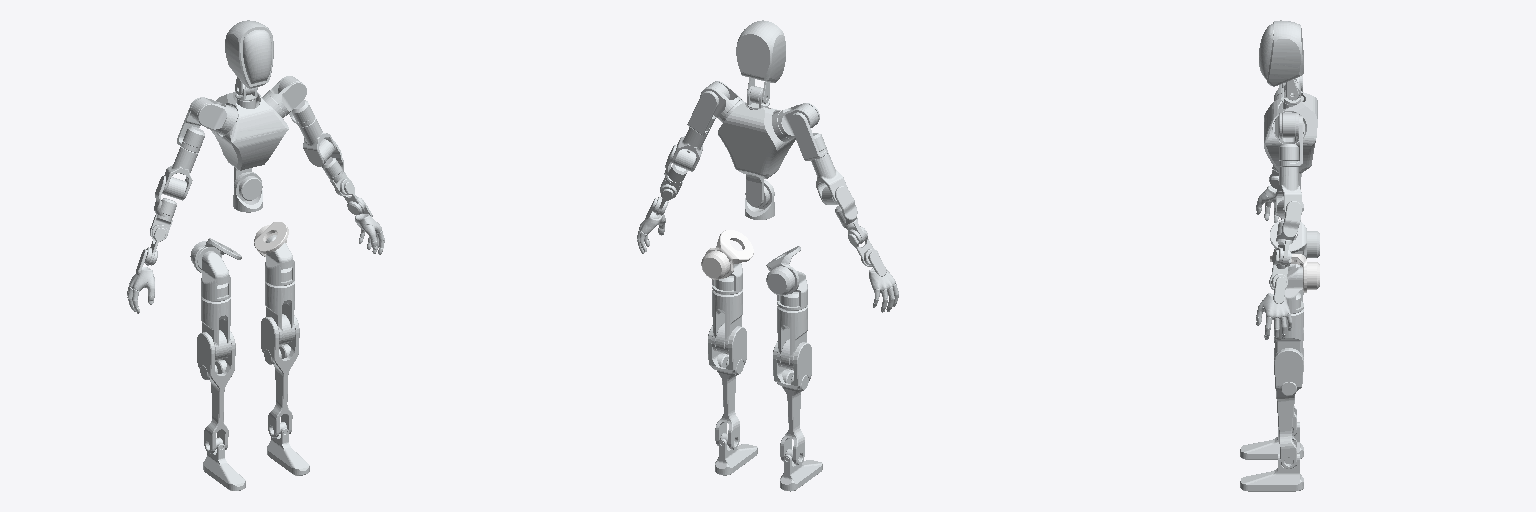
--- What the picture shows (computed from the rendered views, not written in the file) ---
Views: 3 orthographic renders of the robot side by side, from view 1: azimuth 30°, elevation 25°; view 2: azimuth 150°, elevation 25°; view 3: azimuth 270°, elevation 25°.
Robot: 250226_DummyBipedURDF — 31 links, 30 joints (30 revolute); root link base_link; default pose: every joint at zero.
Links seen in each view (by area): view 1: Torso_AA_Link, Neck_FE_Link, Knee_FE_R_Link, Knee_FE_L_Link, Leg_Yaw_L_Link, Leg_Yaw_R_Link, Hip_AA_R_Link, Hip_AA_L_Link, Torso_Yaw_Link, Shoulder_Yaw_R_Link, Shoulder_FE_R_Link, Shoulder_Yaw_L_Link (+8 smaller); view 2: Torso_AA_Link, Neck_FE_Link, Knee_FE_R_Link, Knee_FE_L_Link, Hip_Yaw_L_Link, Leg_Yaw_L_Link, Leg_Yaw_R_Link, Hip_Yaw_R_Link, Wrist_AA_R_Link, Shoulder_AA_R_Link, Shoulder_Yaw_R_Link, Ankle_AA_L_Link (+10 smaller); view 3: Neck_FE_Link, Knee_FE_L_Link, Torso_AA_Link, Ankle_AA_L_Link, Wrist_AA_L_Link, Shoulder_Yaw_L_Link, Hip_Yaw_R_Link, Ankle_AA_R_Link, Leg_Yaw_L_Link, Shoulder_FE_L_Link, Hip_AA_L_Link, Elbow_FE_L_Link (+2 smaller).
Link boxes in pixels (box(x1,y1,x2,y2)): Torso_AA_Link: box(212, 92, 288, 181); Neck_FE_Link: box(225, 20, 273, 95); Knee_FE_R_Link: box(197, 331, 235, 453); Knee_FE_L_Link: box(261, 315, 299, 437); Leg_Yaw_L_Link: box(265, 281, 295, 344); Leg_Yaw_R_Link: box(201, 296, 231, 359); Hip_AA_R_Link: box(201, 251, 230, 301); Hip_AA_L_Link: box(265, 235, 294, 285); Torso_Yaw_Link: box(233, 172, 262, 212); Shoulder_Yaw_R_Link: box(162, 147, 197, 200); Shoulder_FE_R_Link: box(189, 97, 230, 132); Shoulder_Yaw_L_Link: box(298, 117, 335, 166); Torso_AA_Link: box(718, 100, 795, 206); Neck_FE_Link: box(736, 20, 785, 103); Knee_FE_R_Link: box(773, 341, 811, 464); Knee_FE_L_Link: box(708, 325, 746, 449); Hip_Yaw_L_Link: box(701, 230, 753, 279); Leg_Yaw_L_Link: box(712, 289, 742, 354); Leg_Yaw_R_Link: box(777, 305, 807, 370); Hip_Yaw_R_Link: box(766, 246, 800, 295); Wrist_AA_R_Link: box(868, 252, 898, 312); Shoulder_AA_R_Link: box(789, 112, 827, 160); Shoulder_Yaw_R_Link: box(811, 153, 847, 204); Ankle_AA_L_Link: box(715, 439, 757, 475); Neck_FE_Link: box(1259, 20, 1303, 100); Knee_FE_L_Link: box(1274, 348, 1303, 468); Torso_AA_Link: box(1264, 92, 1317, 188); Ankle_AA_L_Link: box(1240, 454, 1303, 491); Wrist_AA_L_Link: box(1256, 277, 1291, 341); Shoulder_Yaw_L_Link: box(1276, 166, 1301, 218); Hip_Yaw_R_Link: box(1270, 219, 1319, 258); Ankle_AA_R_Link: box(1240, 422, 1303, 459); Leg_Yaw_L_Link: box(1274, 309, 1303, 357); Shoulder_FE_L_Link: box(1274, 112, 1303, 142); Hip_AA_L_Link: box(1285, 267, 1303, 313); Elbow_FE_L_Link: box(1276, 201, 1301, 240).
Bounding box of the posed robot: 1.06 × 0.2883 × 1.79 m (x, y, z).
Meshes: 31 distinct files referenced, 30 mesh visuals loaded (30 binary STL); not drawn: 1 (reference not matched to a file when rendering).

robot.urdf — 250226_DummyBipedURDF:
<?xml version="1.0" encoding="utf-8"?>
<!-- This URDF was automatically created by SolidWorks to URDF Exporter! Originally created by Stephen Brawner ([email redacted]) 
     Commit Version: 1.6.0-4-g7f85cfe  Build Version: 1.6.7995.38578
     For more information, please see http://wiki.ros.org/sw_urdf_exporter -->
<robot
  name="250226_DummyBipedURDF">
  <link
    name="base_link">
    <inertial>
      <origin
        xyz="-5.1038E-08 5.4326E-06 0.95377"
        rpy="0 0 0" />
      <mass
        value="6.4875" />
      <inertia
        ixx="0.013251"
        ixy="-1.0594E-07"
        ixz="1.1747E-08"
        iyy="0.018788"
        iyz="-2.0057E-07"
        izz="0.016546" />
    </inertial>
    <visual>
      <origin
        xyz="0 0 0"
        rpy="0 0 0" />
      <geometry>
        <mesh
          filename="../meshes/base_link.STL" />
      </geometry>
      <material
        name="">
        <color
          rgba="0.89804 0.91765 0.92941 1" />
      </material>
    </visual>
    <collision>
      <origin
        xyz="0 0 0"
        rpy="0 0 0" />
      <geometry>
        <mesh
          filename="../meshes/base_link.STL" />
      </geometry>
    </collision>
  </link>
  <link
    name="Torso_Yaw_Link">
    <inertial>
      <origin
        xyz="1.1997E-17 0.054131 -2.8977E-17"
        rpy="0 0 0" />
      <mass
        value="1.9589" />
      <inertia
        ixx="0.0020305"
        ixy="-7.9398E-19"
        ixz="-5.6399E-10"
        iyy="0.0022686"
        iyz="1.8408E-18"
        izz="0.0026768" />
    </inertial>
    <visual>
      <origin
        xyz="0 0 0"
        rpy="0 0 0" />
      <geometry>
        <mesh
          filename="../meshes/Torso_Yaw_Link.STL" />
      </geometry>
      <material
        name="">
        <color
          rgba="0.89804 0.91765 0.92941 1" />
      </material>
    </visual>
    <collision>
      <origin
        xyz="0 0 0"
        rpy="0 0 0" />
      <geometry>
        <mesh
          filename="../meshes/Torso_Yaw_Link.STL" />
      </geometry>
    </collision>
  </link>
  <joint
    name="Torso_Yaw"
    type="revolute">
    <origin
      xyz="0 0 1.045"
      rpy="1.5708 0 0" />
    <parent
      link="base_link" />
    <child
      link="Torso_Yaw_Link" />
    <axis
      xyz="0 1 0" />
    <limit
      lower="-1.5707"
      upper="1.5707"
      effort="0"
      velocity="0" />
  </joint>
  <link
    name="Torso_AA_Link">
    <inertial>
      <origin
        xyz="-2.0708E-07 0.22736 -0.0095751"
        rpy="0 0 0" />
      <mass
        value="30" />
      <inertia
        ixx="0.12796"
        ixy="3.2398E-07"
        ixz="-2.8027E-08"
        iyy="0.10181"
        iyz="0.0058619"
        izz="0.12906" />
    </inertial>
    <visual>
      <origin
        xyz="0 0 0"
        rpy="0 0 0" />
      <geometry>
        <mesh
          filename="../meshes/Torso_AA_Link.STL" />
      </geometry>
      <material
        name="">
        <color
          rgba="0.89804 0.91765 0.92941 1" />
      </material>
    </visual>
    <collision>
      <origin
        xyz="0 0 0"
        rpy="0 0 0" />
      <geometry>
        <mesh
          filename="../meshes/Torso_AA_Link.STL" />
      </geometry>
    </collision>
  </link>
  <joint
    name="Torso_AA"
    type="revolute">
    <origin
      xyz="0 0.0800000000000003 0"
      rpy="0 0 0" />
    <parent
      link="Torso_Yaw_Link" />
    <child
      link="Torso_AA_Link" />
    <axis
      xyz="0 0 1" />
    <limit
      lower="-0.785"
      upper="0.785"
      effort="0"
      velocity="0" />
  </joint>
  <link
    name="Neck_Yaw_Link">
    <inertial>
      <origin
        xyz="-1.4038E-08 0.029123 3.699E-09"
        rpy="0 0 0" />
      <mass
        value="0.45918" />
      <inertia
        ixx="0.00025102"
        ixy="-1.3964E-10"
        ixz="1.1085E-10"
        iyy="0.00027253"
        iyz="-1.7767E-11"
        izz="0.00024693" />
    </inertial>
    <visual>
      <origin
        xyz="0 0 0"
        rpy="0 0 0" />
      <geometry>
        <mesh
          filename="../meshes/Neck_Yaw_Link.STL" />
      </geometry>
      <material
        name="">
        <color
          rgba="0.89804 0.91765 0.92941 1" />
      </material>
    </visual>
    <collision>
      <origin
        xyz="0 0 0"
        rpy="0 0 0" />
      <geometry>
        <mesh
          filename="../meshes/Neck_Yaw_Link.STL" />
      </geometry>
    </collision>
  </link>
  <joint
    name="Neck_Yaw"
    type="revolute">
    <origin
      xyz="0 0.355 -0.0129866470414555"
      rpy="0 0 0" />
    <parent
      link="Torso_AA_Link" />
    <child
      link="Neck_Yaw_Link" />
    <axis
      xyz="0 1 0" />
    <limit
      lower="-0.785"
      upper="0.785"
      effort="0"
      velocity="0" />
  </joint>
  <link
    name="Neck_FE_Link">
    <inertial>
      <origin
        xyz="2.2453E-06 0.15386 0.035067"
        rpy="0 0 0" />
      <mass
        value="3" />
      <inertia
        ixx="0.04359"
        ixy="-3.1398E-07"
        ixz="-1.9196E-07"
        iyy="0.023367"
        iyz="0.0026283"
        izz="0.047363" />
    </inertial>
    <visual>
      <origin
        xyz="0 0 0"
        rpy="0 0 0" />
      <geometry>
        <mesh
          filename="../meshes/Neck_FE_Link.STL" />
      </geometry>
      <material
        name="">
        <color
          rgba="0.89804 0.91765 0.92941 1" />
      </material>
    </visual>
    <collision>
      <origin
        xyz="0 0 0"
        rpy="0 0 0" />
      <geometry>
        <mesh
          filename="../meshes/Neck_FE_Link.STL" />
      </geometry>
    </collision>
  </link>
  <joint
    name="Neck_FE"
    type="revolute">
    <origin
      xyz="0 0.0399999999999998 0"
      rpy="0 0 0" />
    <parent
      link="Neck_Yaw_Link" />
    <child
      link="Neck_FE_Link" />
    <axis
      xyz="1 0 0" />
    <limit
      lower="-0.785"
      upper="0.785"
      effort="0"
      velocity="0" />
  </joint>
  <link
    name="Shoulder_FE_R_Link">
    <inertial>
      <origin
        xyz="-0.0310067505083414 0.019345596761579 1.48881177824227E-10"
        rpy="0 0 0" />
      <mass
        value="1.80654252567583" />
      <inertia
        ixx="0.00223136805713306"
        ixy="0.000243223757907872"
        ixz="-2.90423444678987E-10"
        iyy="0.00246945115474458"
        iyz="-4.63576699028405E-10"
        izz="0.00270170721323667" />
    </inertial>
    <visual>
      <origin
        xyz="0 0 0"
        rpy="0 0 0" />
      <geometry>
        <mesh
          filename="../meshes/Shoulder_FE_R_Link.STL" />
      </geometry>
      <material
        name="">
        <color
          rgba="0.898039215686275 0.917647058823529 0.929411764705882 1" />
      </material>
    </visual>
    <collision>
      <origin
        xyz="0 0 0"
        rpy="0 0 0" />
      <geometry>
        <mesh
          filename="../meshes/Shoulder_FE_R_Link.STL" />
      </geometry>
    </collision>
  </link>
  <joint
    name="Shoulder_FE_R"
    type="revolute">
    <origin
      xyz="-0.134606791294279 0.313081203127166 0"
      rpy="0 0 0" />
    <parent
      link="Torso_AA_Link" />
    <child
      link="Shoulder_FE_R_Link" />
    <axis
      xyz="0.848411485673513 -0.529337275257715 0" />
    <limit
      lower="-0.785"
      upper="3.141"
      effort="0"
      velocity="0" />
  </joint>
  <link
    name="Shoulder_AA_R_Link">
    <inertial>
      <origin
        xyz="-0.0381306595274215 -0.0834509868200322 -0.0151840043629273"
        rpy="0 0 0" />
      <mass
        value="1.247855047949" />
      <inertia
        ixx="0.00255619066796935"
        ixy="-0.000745614459901058"
        ixz="0.000210043728183181"
        iyy="0.0012650690077835"
        iyz="0.000459692806544922"
        izz="0.00280837799737988" />
    </inertial>
    <visual>
      <origin
        xyz="0 0 0"
        rpy="0 0 0" />
      <geometry>
        <mesh
          filename="../meshes/Shoulder_AA_R_Link.STL" />
      </geometry>
      <material
        name="">
        <color
          rgba="0.898039215686275 0.917647058823529 0.929411764705882 1" />
      </material>
    </visual>
    <collision>
      <origin
        xyz="0 0 0"
        rpy="0 0 0" />
      <geometry>
        <mesh
          filename="../meshes/Shoulder_AA_R_Link.STL" />
      </geometry>
    </collision>
  </link>
  <joint
    name="Shoulder_AA_R"
    type="revolute">
    <origin
      xyz="-0.0496017470231125 0.0309473104273139 0"
      rpy="0 0 0" />
    <parent
      link="Shoulder_FE_R_Link" />
    <child
      link="Shoulder_AA_R_Link" />
    <axis
      xyz="0 0 1" />
    <limit
      lower="-0.785"
      upper="2.094"
      effort="0"
      velocity="0" />
  </joint>
  <link
    name="Shoulder_Yaw_R_Link">
    <inertial>
      <origin
        xyz="-0.0519770780045243 -0.113754803821021 2.1573737799135E-09"
        rpy="0 0 0" />
      <mass
        value="2.06319971291781" />
      <inertia
        ixx="0.00360586911977551"
        ixy="-0.000803766521239213"
        ixz="-0.00015613227592812"
        iyy="0.00221403833441209"
        iyz="7.13399292874001E-05"
        izz="0.00432891643180672" />
    </inertial>
    <visual>
      <origin
        xyz="0 0 0"
        rpy="0 0 0" />
      <geometry>
        <mesh
          filename="../meshes/Shoulder_Yaw_R_Link.STL" />
      </geometry>
      <material
        name="">
        <color
          rgba="0.898039215686275 0.917647058823529 0.929411764705882 1" />
      </material>
    </visual>
    <collision>
      <origin
        xyz="0 0 0"
        rpy="0 0 0" />
      <geometry>
        <mesh
          filename="../meshes/Shoulder_Yaw_R_Link.STL" />
      </geometry>
    </collision>
  </link>
  <joint
    name="Shoulder_Yaw_R"
    type="revolute">
    <origin
      xyz="-0.0516249564943227 -0.112984177257028 0"
      rpy="0 0 0" />
    <parent
      link="Shoulder_AA_R_Link" />
    <child
      link="Shoulder_Yaw_R_Link" />
    <axis
      xyz="0.415593597783362 0.909550417229018 0" />
    <limit
      lower="-1.57"
      upper="1.57"
      effort="0"
      velocity="0" />
  </joint>
  <link
    name="Elbow_FE_R_Link">
    <inertial>
      <origin
        xyz="-0.0430905861287604 -0.0545416277452424 0.00455317320276115"
        rpy="0 0 0" />
      <mass
        value="0.692088336953301" />
      <inertia
        ixx="0.000881635924536338"
        ixy="-5.45477026515835E-05"
        ixz="2.15374708302045E-05"
        iyy="0.000351801344105622"
        iyz="0.000148361087401981"
        izz="0.000826885225838731" />
    </inertial>
    <visual>
      <origin
        xyz="0 0 0"
        rpy="0 0 0" />
      <geometry>
        <mesh
          filename="../meshes/Elbow_FE_R_Link.STL" />
      </geometry>
      <material
        name="">
        <color
          rgba="0.898039215686275 0.917647058823529 0.929411764705882 1" />
      </material>
    </visual>
    <collision>
      <origin
        xyz="0 0 0"
        rpy="0 0 0" />
      <geometry>
        <mesh
          filename="../meshes/Elbow_FE_R_Link.STL" />
      </geometry>
    </collision>
  </link>
  <joint
    name="Elbow_FE_R"
    type="revolute">
    <origin
      xyz="-0.0748034856878404 -0.163711717361511 0"
      rpy="0 0 0" />
    <parent
      link="Shoulder_Yaw_R_Link" />
    <child
      link="Elbow_FE_R_Link" />
    <axis
      xyz="0.843385849793954 -0.385361551153234 0.374428609029951" />
    <limit
      lower="-0.157"
      upper="2.268"
      effort="0"
      velocity="0" />
  </joint>
  <link
    name="Elbow_Yaw_R_Link">
    <inertial>
      <origin
        xyz="-0.0300774802367351 -0.0569008247691511 0.00918608157764246"
        rpy="0 0 0" />
      <mass
        value="0.486444545942294" />
      <inertia
        ixx="0.000207124470524885"
        ixy="-9.88793102363349E-06"
        ixz="-1.73468963111058E-05"
        iyy="0.000202259244154704"
        iyz="2.05411115364028E-05"
        izz="0.000264155161494633" />
    </inertial>
    <visual>
      <origin
        xyz="0 0 0"
        rpy="0 0 0" />
      <geometry>
        <mesh
          filename="../meshes/Elbow_Yaw_R_Link.STL" />
      </geometry>
      <material
        name="">
        <color
          rgba="0.898039215686275 0.917647058823529 0.929411764705882 1" />
      </material>
    </visual>
    <collision>
      <origin
        xyz="0 0 0"
        rpy="0 0 0" />
      <geometry>
        <mesh
          filename="../meshes/Elbow_Yaw_R_Link.STL" />
      </geometry>
    </collision>
  </link>
  <joint
    name="Elbow_Yaw_R"
    type="revolute">
    <origin
      xyz="-0.042145521469758 -0.0797312447084886 0.0128718270647735"
      rpy="0 0 0" />
    <parent
      link="Elbow_FE_R_Link" />
    <child
      link="Elbow_Yaw_R_Link" />
    <axis
      xyz="0.462635059808256 0.875216817302152 -0.141295166752804" />
    <limit
      lower="-1.57"
      upper="1.57"
      effort="0"
      velocity="0" />
  </joint>
  <link
    name="Wrist_FE_R_Link">
    <inertial>
      <origin
        xyz="-0.0340290841582708 -0.0639823677206759 0.0102672042908063"
        rpy="0 0 0" />
      <mass
        value="0.456187504829232" />
      <inertia
        ixx="0.000374944464779548"
        ixy="-8.42596042439924E-05"
        ixz="4.1303230793248E-05"
        iyy="0.000247484306552816"
        iyz="1.13021461676669E-07"
        izz="0.000338863870451295" />
    </inertial>
    <visual>
      <origin
        xyz="0 0 0"
        rpy="0 0 0" />
      <geometry>
        <mesh
          filename="../meshes/Wrist_FE_R_Link.STL" />
      </geometry>
      <material
        name="">
        <color
          rgba="0.898039215686275 0.917647058823529 0.929411764705882 1" />
      </material>
    </visual>
    <collision>
      <origin
        xyz="0 0 0"
        rpy="0 0 0" />
      <geometry>
        <mesh
          filename="../meshes/Wrist_FE_R_Link.STL" />
      </geometry>
    </collision>
  </link>
  <joint
    name="Wrist_FE_R"
    type="revolute">
    <origin
      xyz="-0.0371487302648139 -0.0702782739437464 0.0113457376957058"
      rpy="0 0 0" />
    <parent
      link="Elbow_Yaw_R_Link" />
    <child
      link="Wrist_FE_R_Link" />
    <axis
      xyz="0.273256490871751 -0.292390146216084 -0.916427243479914" />
    <limit
      lower="-0.785"
      upper="0.785"
      effort="0"
      velocity="0" />
  </joint>
  <link
    name="Wrist_AA_R_Link">
    <inertial>
      <origin
        xyz="-0.048154488130251 -0.0885984034333783 0.0118552801837085"
        rpy="0 0 0" />
      <mass
        value="1.16298779128614" />
      <inertia
        ixx="0.00278615991733156"
        ixy="-0.000655299883896485"
        ixz="-4.65557798434695E-05"
        iyy="0.00150110022156653"
        iyz="5.6827481544962E-05"
        izz="0.00243448126996028" />
    </inertial>
    <visual>
      <origin
        xyz="0 0 0"
        rpy="0 0 0" />
      <geometry>
        <mesh
          filename="../meshes/Wrist_AA_R_Link.STL" />
      </geometry>
      <material
        name="">
        <color
          rgba="0.898039215686275 0.917647058823529 0.929411764705882 1" />
      </material>
    </visual>
    <collision>
      <origin
        xyz="0 0 0"
        rpy="0 0 0" />
      <geometry>
        <mesh
          filename="../meshes/Wrist_AA_R_Link.STL" />
      </geometry>
    </collision>
  </link>
  <joint
    name="Wrist_AA_R"
    type="revolute">
    <origin
      xyz="-0.0439503306817846 -0.0831455976437052 0.0134230408415164"
      rpy="0 0 0" />
    <parent
      link="Wrist_FE_R_Link" />
    <child
      link="Wrist_AA_R_Link" />
    <axis
      xyz="0.843385849793954 -0.385361551153234 0.374428609029951" />
    <limit
      lower="-0.785"
      upper="0.785"
      effort="0"
      velocity="0" />
  </joint>
  <link
    name="Shoulder_FE_L_Link">
    <inertial>
      <origin
        xyz="0.0911899084281182 0.0568948159407252 1.48881252208518E-10"
        rpy="0 0 0" />
      <mass
        value="1.80654252567583" />
      <inertia
        ixx="0.0022313680571334"
        ixy="-0.000243223757908136"
        ixz="2.90423441848133E-10"
        iyy="0.00246945115474501"
        iyz="-4.6357669813026E-10"
        izz="0.00270170721323742" />
    </inertial>
    <visual>
      <origin
        xyz="0 0 0"
        rpy="0 0 0" />
      <geometry>
        <mesh
          filename="../meshes/Shoulder_FE_L_Link.STL" />
      </geometry>
      <material
        name="">
        <color
          rgba="0.898039215686275 0.917647058823529 0.929411764705882 1" />
      </material>
    </visual>
    <collision>
      <origin
        xyz="0 0 0"
        rpy="0 0 0" />
      <geometry>
        <mesh
          filename="../meshes/Shoulder_FE_L_Link.STL" />
      </geometry>
    </collision>
  </link>
  <joint
    name="Shoulder_FE_L"
    type="revolute">
    <origin
      xyz="0.0744236333745026 0.275531983948021 0"
      rpy="0 0 0" />
    <parent
      link="Torso_AA_Link" />
    <child
      link="Shoulder_FE_L_Link" />
    <axis
      xyz="0.848411485673513 0.529337275257715 0" />
    <limit
      lower="-0.785"
      upper="3.141"
      effort="0"
      velocity="0" />
  </joint>
  <link
    name="Shoulder_AA_L_Link">
    <inertial>
      <origin
        xyz="0.0381306914977411 -0.0834510282291694 -0.0151840384829405"
        rpy="0 0 0" />
      <mass
        value="1.24785803890815" />
      <inertia
        ixx="0.00255619297670402"
        ixy="0.00074561597091883"
        ixz="-0.000210043630275466"
        iyy="0.00126506988452807"
        iyz="0.000459692606514037"
        izz="0.00280838097149953" />
    </inertial>
    <visual>
      <origin
        xyz="0 0 0"
        rpy="0 0 0" />
      <geometry>
        <mesh
          filename="../meshes/Shoulder_AA_L_Link.STL" />
      </geometry>
      <material
        name="">
        <color
          rgba="0.898039215686275 0.917647058823529 0.929411764705882 1" />
      </material>
    </visual>
    <collision>
      <origin
        xyz="0 0 0"
        rpy="0 0 0" />
      <geometry>
        <mesh
          filename="../meshes/Shoulder_AA_L_Link.STL" />
      </geometry>
    </collision>
  </link>
  <joint
    name="Shoulder_AA_L"
    type="revolute">
    <origin
      xyz="0.109784904942889 0.0684965296064597 0"
      rpy="0 0 0" />
    <parent
      link="Shoulder_FE_L_Link" />
    <child
      link="Shoulder_AA_L_Link" />
    <axis
      xyz="0 0 1" />
    <limit
      lower="-0.785"
      upper="2.094"
      effort="0"
      velocity="0" />
  </joint>
  <link
    name="Shoulder_Yaw_L_Link">
    <inertial>
      <origin
        xyz="0.0259050715631457 -0.056694727569738 5.37980859727346E-09"
        rpy="0 0 0" />
      <mass
        value="2.0632030388164" />
      <inertia
        ixx="0.00360586913325862"
        ixy="0.000803766571522294"
        ixz="0.000156132362757545"
        iyy="0.00221403832568276"
        iyz="7.13400283581453E-05"
        izz="0.00432891589749316" />
    </inertial>
    <visual>
      <origin
        xyz="0 0 0"
        rpy="0 0 0" />
      <geometry>
        <mesh
          filename="../meshes/Shoulder_Yaw_L_Link.STL" />
      </geometry>
      <material
        name="">
        <color
          rgba="0.898039215686275 0.917647058823529 0.929411764705882 1" />
      </material>
    </visual>
    <collision>
      <origin
        xyz="0 0 0"
        rpy="0 0 0" />
      <geometry>
        <mesh
          filename="../meshes/Shoulder_Yaw_L_Link.STL" />
      </geometry>
    </collision>
  </link>
  <joint
    name="Shoulder_Yaw_L"
    type="revolute">
    <origin
      xyz="0.0776969434403317 -0.170044215552164 0"
      rpy="0 0 0" />
    <parent
      link="Shoulder_AA_L_Link" />
    <child
      link="Shoulder_Yaw_L_Link" />
    <axis
      xyz="0.415593597783362 -0.909550417229018 0" />
    <limit
      lower="-1.57"
      upper="1.57"
      effort="0"
      velocity="0" />
  </joint>
  <link
    name="Elbow_FE_L_Link">
    <inertial>
      <origin
        xyz="0.0430905166465817 -0.0545417440406633 0.00455283445937587"
        rpy="0 0 0" />
      <mass
        value="0.692089248900635" />
      <inertia
        ixx="0.000881654485049893"
        ixy="5.45506410031268E-05"
        ixz="-2.15275099931176E-05"
        iyy="0.000351807624276591"
        iyz="0.000148354489673587"
        izz="0.000826883425114298" />
    </inertial>
    <visual>
      <origin
        xyz="0 0 0"
        rpy="0 0 0" />
      <geometry>
        <mesh
          filename="../meshes/Elbow_FE_L_Link.STL" />
      </geometry>
      <material
        name="">
        <color
          rgba="0.898039215686275 0.917647058823529 0.929411764705882 1" />
      </material>
    </visual>
    <collision>
      <origin
        xyz="0 0 0"
        rpy="0 0 0" />
      <geometry>
        <mesh
          filename="../meshes/Elbow_FE_L_Link.STL" />
      </geometry>
    </collision>
  </link>
  <joint
    name="Elbow_FE_L"
    type="revolute">
    <origin
      xyz="0.0487314987418315 -0.106651679066375 0"
      rpy="0 0 0" />
    <parent
      link="Shoulder_Yaw_L_Link" />
    <child
      link="Elbow_FE_L_Link" />
    <axis
      xyz="0.843385849793954 0.385361551153234 -0.374428609029951" />
    <limit
      lower="-0.157"
      upper="2.268"
      effort="0"
      velocity="0" />
  </joint>
  <link
    name="Elbow_Yaw_L_Link">
    <inertial>
      <origin
        xyz="0.0109040945189667 -0.0206284552933813 0.00333026398901495"
        rpy="0 0 0" />
      <mass
        value="0.486444532765781" />
      <inertia
        ixx="0.000207124461896542"
        ixy="9.88793027126458E-06"
        ixz="1.73469000994959E-05"
        iyy="0.000202259233711323"
        iyz="2.05411093239393E-05"
        izz="0.000264155157374209" />
    </inertial>
    <visual>
      <origin
        xyz="0 0 0"
        rpy="0 0 0" />
      <geometry>
        <mesh
          filename="../meshes/Elbow_Yaw_L_Link.STL" />
      </geometry>
      <material
        name="">
        <color
          rgba="0.898039215686275 0.917647058823529 0.929411764705882 1" />
      </material>
    </visual>
    <collision>
      <origin
        xyz="0 0 0"
        rpy="0 0 0" />
      <geometry>
        <mesh
          filename="../meshes/Elbow_Yaw_L_Link.STL" />
      </geometry>
    </collision>
  </link>
  <joint
    name="Elbow_Yaw_L"
    type="revolute">
    <origin
      xyz="0.0613189078897877 -0.116003615086985 0.0187276453258385"
      rpy="0 0 0" />
    <parent
      link="Elbow_FE_L_Link" />
    <child
      link="Elbow_Yaw_L_Link" />
    <axis
      xyz="0.462635059808256 -0.875216817302152 0.141295166752804" />
    <limit
      lower="-1.57"
      upper="1.57"
      effort="0"
      velocity="0" />
  </joint>
  <link
    name="Wrist_FE_L_Link">
    <inertial>
      <origin
        xyz="0.0340290841582708 -0.0639823677206758 0.0102672042908063"
        rpy="0 0 0" />
      <mass
        value="0.456187504829231" />
      <inertia
        ixx="0.000374944464779554"
        ixy="8.42596042439878E-05"
        ixz="-4.13032307932444E-05"
        iyy="0.000247484306552825"
        iyz="1.13021461679485E-07"
        izz="0.000338863870451307" />
    </inertial>
    <visual>
      <origin
        xyz="0 0 0"
        rpy="0 0 0" />
      <geometry>
        <mesh
          filename="../meshes/Wrist_FE_L_Link.STL" />
      </geometry>
      <material
        name="">
        <color
          rgba="0.898039215686275 0.917647058823529 0.929411764705882 1" />
      </material>
    </visual>
    <collision>
      <origin
        xyz="0 0 0"
        rpy="0 0 0" />
      <geometry>
        <mesh
          filename="../meshes/Wrist_FE_L_Link.STL" />
      </geometry>
    </collision>
  </link>
  <joint
    name="Wrist_FE_L"
    type="revolute">
    <origin
      xyz="0.0179753438447842 -0.0340059035652502 0.0054899194346409"
      rpy="0 0 0" />
    <parent
      link="Elbow_Yaw_L_Link" />
    <child
      link="Wrist_FE_L_Link" />
    <axis
      xyz="0.273256490871751 0.292390146216084 0.916427243479914" />
    <limit
      lower="-0.785"
      upper="0.785"
      effort="0"
      velocity="0" />
  </joint>
  <link
    name="Wrist_AA_L_Link">
    <inertial>
      <origin
        xyz="0.0481548139056346 -0.0885981643123183 0.0118544030044484"
        rpy="0 0 0" />
      <mass
        value="1.16294975479698" />
      <inertia
        ixx="0.0027861287011637"
        ixy="0.000655307459832117"
        ixz="4.65043904076585E-05"
        iyy="0.00150104013596433"
        iyz="5.68759630419156E-05"
        izz="0.00243451886071042" />
    </inertial>
    <visual>
      <origin
        xyz="0 0 0"
        rpy="0 0 0" />
      <geometry>
        <mesh
          filename="../meshes/Wrist_AA_L_Link.STL" />
      </geometry>
      <material
        name="">
        <color
          rgba="0.898039215686275 0.917647058823529 0.929411764705882 1" />
      </material>
    </visual>
    <collision>
      <origin
        xyz="0 0 0"
        rpy="0 0 0" />
      <geometry>
        <mesh
          filename="../meshes/Wrist_AA_L_Link.STL" />
      </geometry>
    </collision>
  </link>
  <joint
    name="Wrist_AA_L"
    type="revolute">
    <origin
      xyz="0.0439503306817846 -0.0831455976437052 0.0134230408415163"
      rpy="0 0 0" />
    <parent
      link="Wrist_FE_L_Link" />
    <child
      link="Wrist_AA_L_Link" />
    <axis
      xyz="0.843385849793954 0.385361551153234 -0.374428609029951" />
    <limit
      lower="-0.785"
      upper="0.785"
      effort="0"
      velocity="0" />
  </joint>
  <link
    name="Hip_Yaw_R_Link">
    <inertial>
      <origin
        xyz="0.0578410845121096 0.0820008286384128 -0.0573035744011938"
        rpy="0 0 0" />
      <mass
        value="1.87267545353134" />
      <inertia
        ixx="0.00289173144955821"
        ixy="0.000158739707429429"
        ixz="-0.00023483997255851"
        iyy="0.00300480416177858"
        iyz="-0.000332931872688091"
        izz="0.00307978274984304" />
    </inertial>
    <visual>
      <origin
        xyz="0 0 0"
        rpy="0 0 0" />
      <geometry>
        <mesh
          filename="../meshes/Hip_Yaw_R_Link.STL" />
      </geometry>
      <material
        name="">
        <color
          rgba="0.898039215686275 0.917647058823529 0.929411764705882 1" />
      </material>
    </visual>
    <collision>
      <origin
        xyz="0 0 0"
        rpy="0 0 0" />
      <geometry>
        <mesh
          filename="../meshes/Hip_Yaw_R_Link.STL" />
      </geometry>
    </collision>
  </link>
  <joint
    name="Hip_Yaw_R"
    type="revolute">
    <origin
      xyz="-0.18292 0 0.77669"
      rpy="1.5708 0 0" />
    <parent
      link="base_link" />
    <child
      link="Hip_Yaw_R_Link" />
    <axis
      xyz="0.5764 0.81716 0" />
    <limit
      lower="-0.785"
      upper="0.785"
      effort="0"
      velocity="0" />
  </joint>
  <link
    name="Hip_AA_R_Link">
    <inertial>
      <origin
        xyz="-2.69449785483822E-07 -0.0646115391941415 -0.000652188468069115"
        rpy="0 0 0" />
      <mass
        value="2.48825418562765" />
      <inertia
        ixx="0.00405037749012707"
        ixy="-3.5961153665738E-10"
        ixz="1.09319966244474E-10"
        iyy="0.00315132056134294"
        iyz="0.000500461315147233"
        izz="0.00387167610683285" />
    </inertial>
    <visual>
      <origin
        xyz="0 0 0"
        rpy="0 0 0" />
      <geometry>
        <mesh
          filename="../meshes/Hip_AA_R_Link.STL" />
      </geometry>
      <material
        name="">
        <color
          rgba="0.898039215686275 0.917647058823529 0.929411764705882 1" />
      </material>
    </visual>
    <collision>
      <origin
        xyz="0 0 0"
        rpy="0 0 0" />
      <geometry>
        <mesh
          filename="../meshes/Hip_AA_R_Link.STL" />
      </geometry>
    </collision>
  </link>
  <joint
    name="Hip_AA_R"
    type="revolute">
    <origin
      xyz="0.0481955931563164 0.0683264972269815 0"
      rpy="0 0 0" />
    <parent
      link="Hip_Yaw_R_Link" />
    <child
      link="Hip_AA_R_Link" />
    <axis
      xyz="0 0 1" />
    <limit
      lower="-0.785"
      upper="0.785"
      effort="0"
      velocity="0" />
  </joint>
  <link
    name="Leg_Yaw_R_Link">
    <inertial>
      <origin
        xyz="6.82227077608566E-09 -0.104403452809299 2.66533504267152E-15"
        rpy="0 0 0" />
      <mass
        value="4.0914725794956" />
      <inertia
        ixx="0.0142533854053674"
        ixy="1.49951509217404E-09"
        ixz="-6.16086353110232E-08"
        iyy="0.00576969016759821"
        iyz="5.78352776779898E-16"
        izz="0.0137448181862327" />
    </inertial>
    <visual>
      <origin
        xyz="0 0 0"
        rpy="0 0 0" />
      <geometry>
        <mesh
          filename="../meshes/Leg_Yaw_R_Link.STL" />
      </geometry>
      <material
        name="">
        <color
          rgba="0.898039215686275 0.917647058823529 0.929411764705882 1" />
      </material>
    </visual>
    <collision>
      <origin
        xyz="0 0 0"
        rpy="0 0 0" />
      <geometry>
        <mesh
          filename="../meshes/Leg_Yaw_R_Link.STL" />
      </geometry>
    </collision>
  </link>
  <joint
    name="Leg_Yaw_R"
    type="revolute">
    <origin
      xyz="0 -0.13 0"
      rpy="0 0 0" />
    <parent
      link="Hip_AA_R_Link" />
    <child
      link="Leg_Yaw_R_Link" />
    <axis
      xyz="0 1 0" />
    <limit
      lower="-0.785"
      upper="0.785"
      effort="0"
      velocity="0" />
  </joint>
  <link
    name="Knee_FE_R_Link">
    <inertial>
      <origin
        xyz="-4.93987460936651E-08 -0.1303798261204 0.00432722001694677"
        rpy="0 0 0" />
      <mass
        value="3.40975209875335" />
      <inertia
        ixx="0.0524465518071102"
        ixy="7.02934990367548E-09"
        ixz="-8.46637666448873E-09"
        iyy="0.00511985305384163"
        iyz="0.000894089614904236"
        izz="0.0535345160267601" />
    </inertial>
    <visual>
      <origin
        xyz="0 0 0"
        rpy="0 0 0" />
      <geometry>
        <mesh
          filename="../meshes/Knee_FE_R_Link.STL" />
      </geometry>
      <material
        name="">
        <color
          rgba="0.898039215686275 0.917647058823529 0.929411764705882 1" />
      </material>
    </visual>
    <collision>
      <origin
        xyz="0 0 0"
        rpy="0 0 0" />
      <geometry>
        <mesh
          filename="../meshes/Knee_FE_R_Link.STL" />
      </geometry>
    </collision>
  </link>
  <joint
    name="Knee_FE_R"
    type="revolute">
    <origin
      xyz="0 -0.195911086202374 0"
      rpy="0 0 0" />
    <parent
      link="Leg_Yaw_R_Link" />
    <child
      link="Knee_FE_R_Link" />
    <axis
      xyz="1 0 0" />
    <limit
      lower="-2.094"
      upper="0"
      effort="0"
      velocity="0" />
  </joint>
  <link
    name="Ankle_FE_R_Link">
    <inertial>
      <origin
        xyz="2.13230261780772E-08 -3.31102187334231E-10 1.73086544095303E-08"
        rpy="0 0 0" />
      <mass
        value="0.153834925462232" />
      <inertia
        ixx="4.48755162014596E-05"
        ixy="-1.14948613513671E-12"
        ixz="-1.49200435840691E-11"
        iyy="4.91482585618936E-05"
        iyz="2.31778812055718E-11"
        izz="3.14808463200294E-05" />
    </inertial>
    <visual>
      <origin
        xyz="0 0 0"
        rpy="0 0 0" />
      <geometry>
        <mesh
          filename="../meshes/Ankle_FE_R_Link.STL" />
      </geometry>
      <material
        name="">
        <color
          rgba="0.898039215686275 0.917647058823529 0.929411764705882 1" />
      </material>
    </visual>
    <collision>
      <origin
        xyz="0 0 0"
        rpy="0 0 0" />
      <geometry>
        <mesh
          filename="../meshes/Ankle_FE_R_Link.STL" />
      </geometry>
    </collision>
  </link>
  <joint
    name="Ankle_FE_R"
    type="revolute">
    <origin
      xyz="0 -0.399106992412679 0"
      rpy="0 0 0" />
    <parent
      link="Knee_FE_R_Link" />
    <child
      link="Ankle_FE_R_Link" />
    <axis
      xyz="1 0 0" />
    <limit
      lower="-0.785"
      upper="0.785"
      effort="0"
      velocity="0" />
  </joint>
  <link
    name="Ankle_AA_R_Link">
    <inertial>
      <origin
        xyz="4.70497521498636E-09 -0.0888982973512883 0.0475242006785333"
        rpy="0 0 0" />
      <mass
        value="2.13461169422066" />
      <inertia
        ixx="0.00890209560798504"
        ixy="-3.02319429852812E-10"
        ixz="-3.31335378706138E-11"
        iyy="0.0083072021840268"
        iyz="0.000961558978902551"
        izz="0.00188215989143463" />
    </inertial>
    <visual>
      <origin
        xyz="0 0 0"
        rpy="0 0 0" />
      <geometry>
        <mesh
          filename="../meshes/Ankle_AA_R_Link.STL" />
      </geometry>
      <material
        name="">
        <color
          rgba="0.898039215686275 0.917647058823529 0.929411764705882 1" />
      </material>
    </visual>
    <collision>
      <origin
        xyz="0 0 0"
        rpy="0 0 0" />
      <geometry>
        <mesh
          filename="../meshes/Ankle_AA_R_Link.STL" />
      </geometry>
    </collision>
  </link>
  <joint
    name="Ankle_AA_R"
    type="revolute">
    <origin
      xyz="0 0 0"
      rpy="0 0 0" />
    <parent
      link="Ankle_FE_R_Link" />
    <child
      link="Ankle_AA_R_Link" />
    <axis
      xyz="0 0 1" />
    <limit
      lower="-0.785"
      upper="0.785"
      effort="0"
      velocity="0" />
  </joint>
  <link
    name="Hip_Yaw_L_Link">
    <inertial>
      <origin
        xyz="0 0 0"
        rpy="0 0 0" />
      <mass
        value="0" />
      <inertia
        ixx="0"
        ixy="0"
        ixz="0"
        iyy="0"
        iyz="0"
        izz="0" />
    </inertial>
    <visual>
      <origin
        xyz="0 0 0"
        rpy="0 0 0" />
      <geometry>
        <mesh
          filename="../meshes/Hip_Yaw_L_Link.STL" />
      </geometry>
      <material
        name="">
        <color
          rgba="1 1 1 1" />
      </material>
    </visual>
    <collision>
      <origin
        xyz="0 0 0"
        rpy="0 0 0" />
      <geometry>
        <mesh
          filename="../meshes/Hip_Yaw_L_Link.STL" />
      </geometry>
    </collision>
  </link>
  <joint
    name="Hip_Yaw_L"
    type="revolute">
    <origin
      xyz="0.130955787324032 0 0.850357317544145"
      rpy="1.5707963267949 0 0" />
    <parent
      link="base_link" />
    <child
      link="Hip_Yaw_L_Link" />
    <axis
      xyz="0.576404776244777 -0.817164324920152 0" />
    <limit
      lower="-0.785"
      upper="0.785"
      effort="0"
      velocity="0" />
  </joint>
  <link
    name="Hip_AA_L_Link">
    <inertial>
      <origin
        xyz="-2.62266962453017E-07 -0.0646116873978295 -0.000652066625577265"
        rpy="0 0 0" />
      <mass
        value="2.48825113860261" />
      <inertia
        ixx="0.00405037803146433"
        ixy="-2.08780618374345E-09"
        ixz="3.17730270187968E-09"
        iyy="0.00315132204448699"
        iyz="0.000500459479043544"
        izz="0.00387166959773019" />
    </inertial>
    <visual>
      <origin
        xyz="0 0 0"
        rpy="0 0 0" />
      <geometry>
        <mesh
          filename="../meshes/Hip_AA_L_Link.STL" />
      </geometry>
      <material
        name="">
        <color
          rgba="0.898039215686275 0.917647058823529 0.929411764705882 1" />
      </material>
    </visual>
    <collision>
      <origin
        xyz="0 0 0"
        rpy="0 0 0" />
      <geometry>
        <mesh
          filename="../meshes/Hip_AA_L_Link.STL" />
      </geometry>
    </collision>
  </link>
  <joint
    name="Hip_AA_L"
    type="revolute">
    <origin
      xyz="0.00376614926323537 -0.00533923892909116 0"
      rpy="0 0 0" />
    <parent
      link="Hip_Yaw_L_Link" />
    <child
      link="Hip_AA_L_Link" />
    <axis
      xyz="0 0 1" />
    <limit
      lower="-0.785"
      upper="0.785"
      effort="0"
      velocity="0" />
  </joint>
  <link
    name="Leg_Yaw_L_Link">
    <inertial>
      <origin
        xyz="6.82227951909198E-09 -0.104403445541586 4.68211355669955E-15"
        rpy="0 0 0" />
      <mass
        value="4.09147176216603" />
      <inertia
        ixx="0.0142533811399932"
        ixy="1.47594001631118E-09"
        ixz="-5.88046718179431E-08"
        iyy="0.00576969008395192"
        iyz="1.68085727330861E-16"
        izz="0.013744816339507" />
    </inertial>
    <visual>
      <origin
        xyz="0 0 0"
        rpy="0 0 0" />
      <geometry>
        <mesh
          filename="../meshes/Leg_Yaw_L_Link.STL" />
      </geometry>
      <material
        name="">
        <color
          rgba="0.898039215686275 0.917647058823529 0.929411764705882 1" />
      </material>
    </visual>
    <collision>
      <origin
        xyz="0 0 0"
        rpy="0 0 0" />
      <geometry>
        <mesh
          filename="../meshes/Leg_Yaw_L_Link.STL" />
      </geometry>
    </collision>
  </link>
  <joint
    name="Leg_Yaw_L"
    type="revolute">
    <origin
      xyz="0 -0.13 0"
      rpy="0 0 0" />
    <parent
      link="Hip_AA_L_Link" />
    <child
      link="Leg_Yaw_L_Link" />
    <axis
      xyz="0 1 0" />
    <limit
      lower="-0.785"
      upper="0.785"
      effort="0"
      velocity="0" />
  </joint>
  <link
    name="Knee_FE_L_Link">
    <inertial>
      <origin
        xyz="-0.00198284083556183 -0.132387821786023 0.00461322617281429"
        rpy="0 0 0" />
      <mass
        value="3.19835325034246" />
      <inertia
        ixx="0.0523532579591458"
        ixy="-6.44161322043689E-09"
        ixz="8.32602353989091E-09"
        iyy="0.00503890138177925"
        iyz="0.000894090531679506"
        izz="0.0534535657648782" />
    </inertial>
    <visual>
      <origin
        xyz="0 0 0"
        rpy="0 0 0" />
      <geometry>
        <mesh
          filename="../meshes/Knee_FE_L_Link.STL" />
      </geometry>
      <material
        name="">
        <color
          rgba="0.898039215686275 0.917647058823529 0.929411764705882 1" />
      </material>
    </visual>
    <collision>
      <origin
        xyz="0 0 0"
        rpy="0 0 0" />
      <geometry>
        <mesh
          filename="../meshes/Knee_FE_L_Link.STL" />
      </geometry>
    </collision>
  </link>
  <joint
    name="Knee_FE_L"
    type="revolute">
    <origin
      xyz="0 -0.195911086202374 0"
      rpy="0 0 0" />
    <parent
      link="Leg_Yaw_L_Link" />
    <child
      link="Knee_FE_L_Link" />
    <axis
      xyz="1 0 0" />
    <limit
      lower="-2.094"
      upper="0"
      effort="0"
      velocity="0" />
  </joint>
  <link
    name="Ankle_FE_L_Link">
    <inertial>
      <origin
        xyz="-2.15278271042951E-08 -6.91215279458035E-11 1.80190664845847E-08"
        rpy="0 0 0" />
      <mass
        value="0.153834949413743" />
      <inertia
        ixx="4.48755211744641E-05"
        ixy="4.29871081789534E-13"
        ixz="1.2901438273711E-11"
        iyy="4.91482963109345E-05"
        iyz="1.29232571260581E-10"
        izz="3.1480829846544E-05" />
    </inertial>
    <visual>
      <origin
        xyz="0 0 0"
        rpy="0 0 0" />
      <geometry>
        <mesh
          filename="../meshes/Ankle_FE_L_Link.STL" />
      </geometry>
      <material
        name="">
        <color
          rgba="0.898039215686275 0.917647058823529 0.929411764705882 1" />
      </material>
    </visual>
    <collision>
      <origin
        xyz="0 0 0"
        rpy="0 0 0" />
      <geometry>
        <mesh
          filename="../meshes/Ankle_FE_L_Link.STL" />
      </geometry>
    </collision>
  </link>
  <joint
    name="Ankle_FE_L"
    type="revolute">
    <origin
      xyz="0 -0.399106992412679 0"
      rpy="0 0 0" />
    <parent
      link="Knee_FE_L_Link" />
    <child
      link="Ankle_FE_L_Link" />
    <axis
      xyz="1 0 0" />
    <limit
      lower="-0.785"
      upper="0.785"
      effort="0"
      velocity="0" />
  </joint>
  <link
    name="Ankle_AA_L_Link">
    <inertial>
      <origin
        xyz="-1.44560177717246E-08 -0.0888983146151464 0.0475241817527442"
        rpy="0 0 0" />
      <mass
        value="2.13461028514175" />
      <inertia
        ixx="0.0089020907103915"
        ixy="6.35895615377347E-10"
        ixz="1.03567266094569E-09"
        iyy="0.00830719794466869"
        iyz="0.000961559759681165"
        izz="0.00188215837469731" />
    </inertial>
    <visual>
      <origin
        xyz="0 0 0"
        rpy="0 0 0" />
      <geometry>
        <mesh
          filename="../meshes/Ankle_AA_L_Link.STL" />
      </geometry>
      <material
        name="">
        <color
          rgba="0.898039215686275 0.917647058823529 0.929411764705882 1" />
      </material>
    </visual>
    <collision>
      <origin
        xyz="0 0 0"
        rpy="0 0 0" />
      <geometry>
        <mesh
          filename="../meshes/Ankle_AA_L_Link.STL" />
      </geometry>
    </collision>
  </link>
  <joint
    name="Ankle_AA_L"
    type="revolute">
    <origin
      xyz="0 0 0"
      rpy="0 0 0" />
    <parent
      link="Ankle_FE_L_Link" />
    <child
      link="Ankle_AA_L_Link" />
    <axis
      xyz="0 0 1" />
    <limit
      lower="-0.785"
      upper="0.785"
      effort="0"
      velocity="0" />
  </joint>
</robot>
